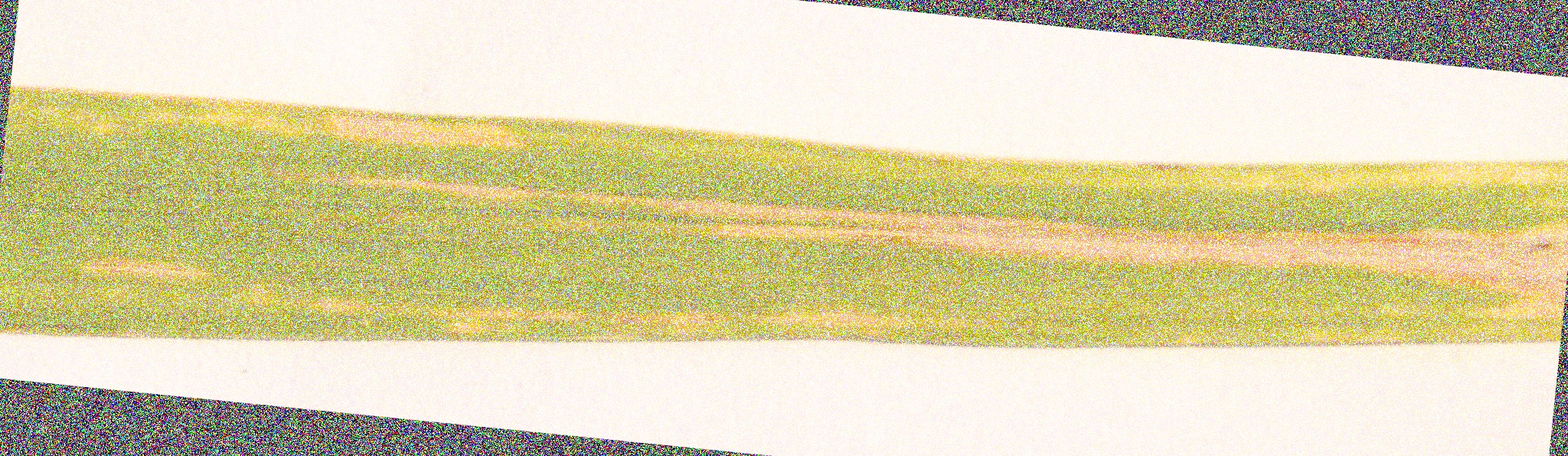Leaf_Blast: (30, 93, 1560, 362)
